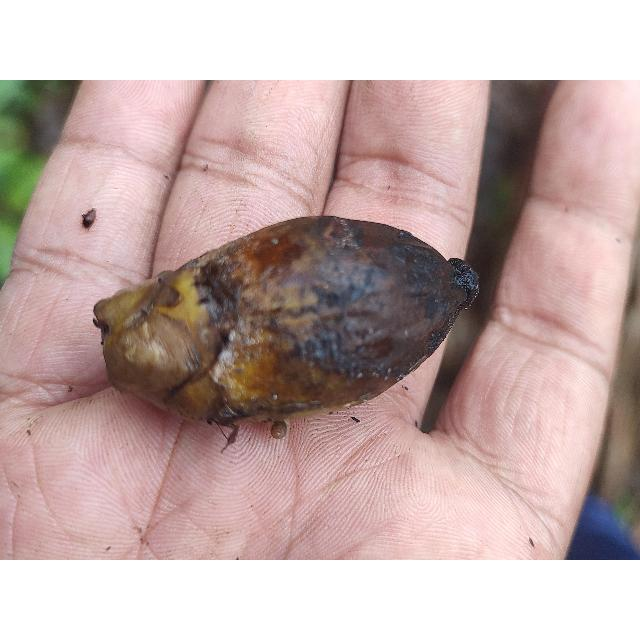damaged: (94, 216, 479, 436)
